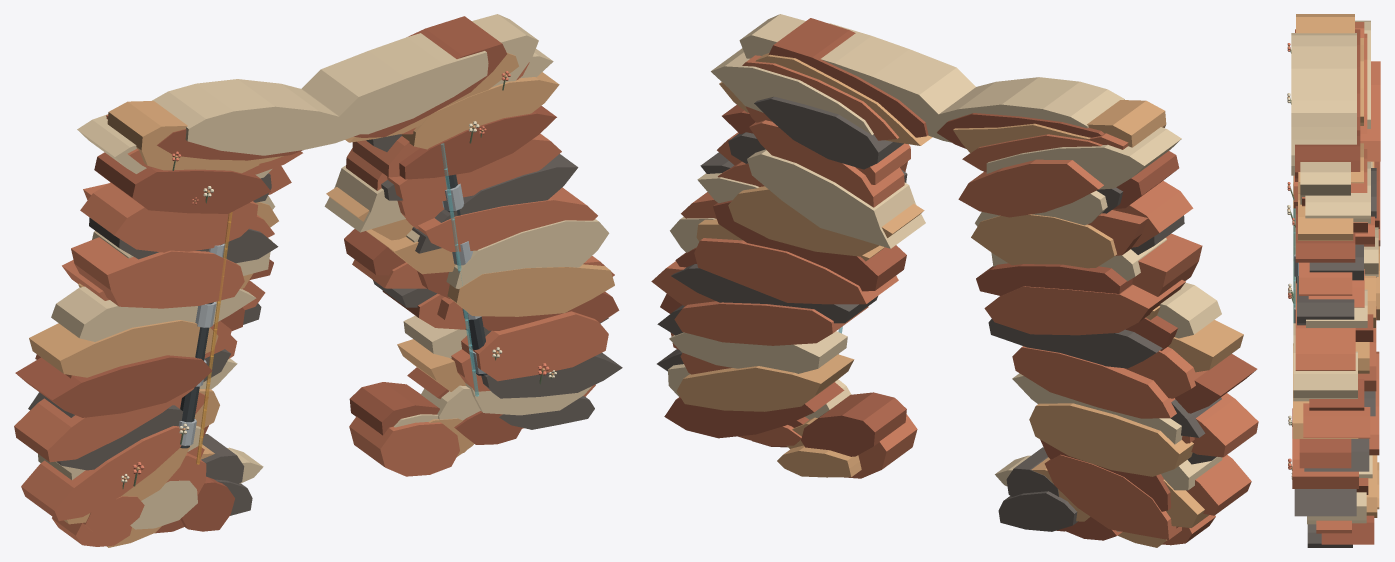
The model's file is salomon-terraforma-arch.glb.
3 views of the same model, side by side, from view 1: azimuth 30°, elevation 25°; view 2: azimuth 150°, elevation 25°; view 3: azimuth 270°, elevation 25° (orthographic). The views are drawn at different scales.
Visible parts, largest first — view 1: Salomon_Terraforma_Arch; view 2: Salomon_Terraforma_Arch; view 3: Salomon_Terraforma_Arch.
Part boxes in pixels (x1,y1,x2,y2): Salomon_Terraforma_Arch: (14, 14, 622, 547); Salomon_Terraforma_Arch: (651, 14, 1258, 547); Salomon_Terraforma_Arch: (1287, 14, 1380, 547).
Bounding box in the file's own units: 4.11 × 2.9 × 0.6713.
